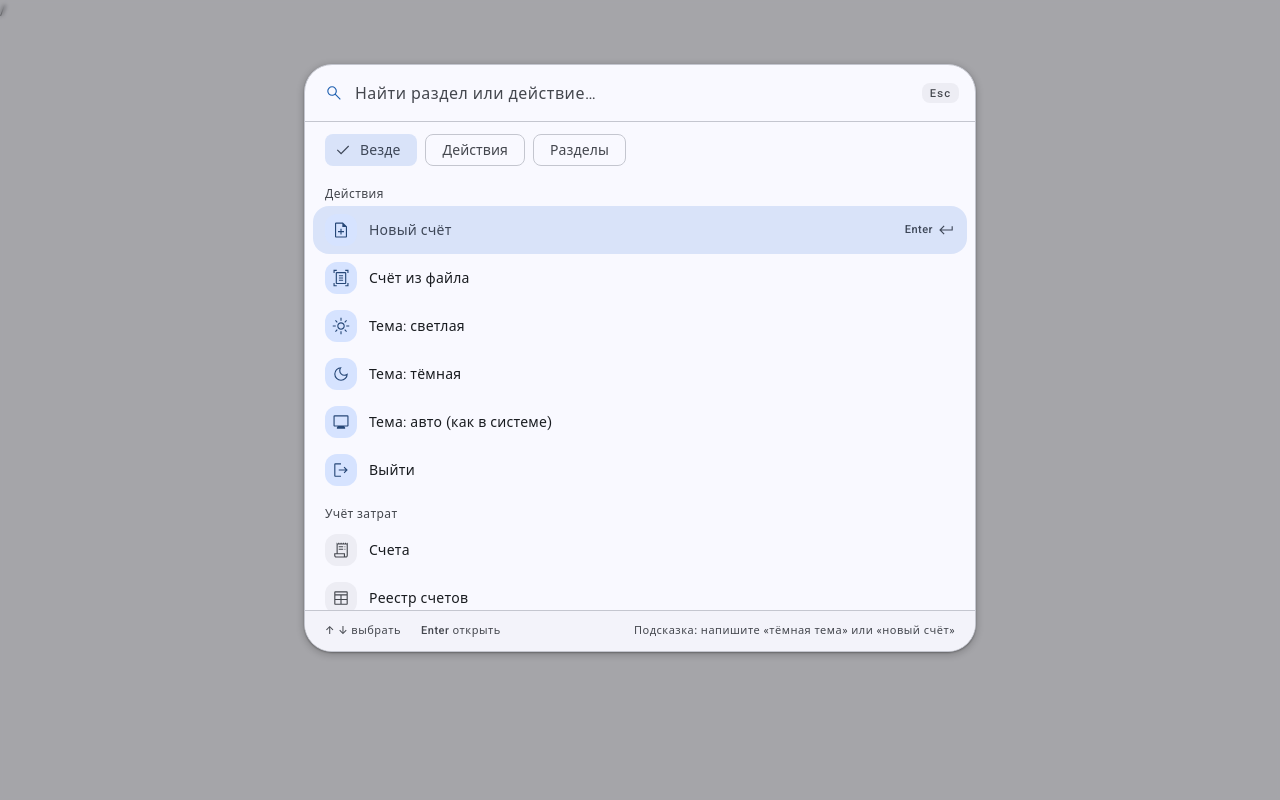
Test: командная палитра › действие ведёт на экран, который его исполнит
Type "новый счет" into the field named "Поиск и действия" at coordinates (632, 93), box [355,65,910,121]
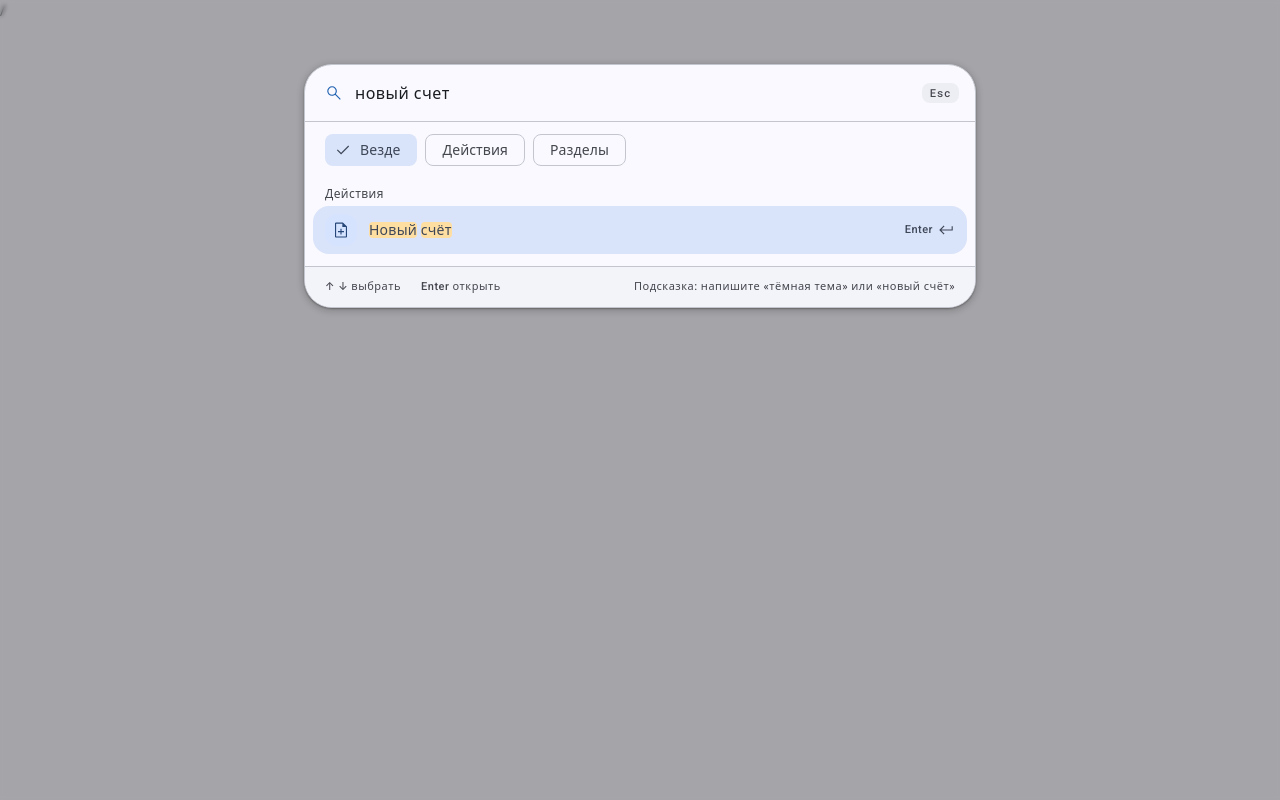
Press Enter in the field named "Поиск и действия", box [355,65,910,121]
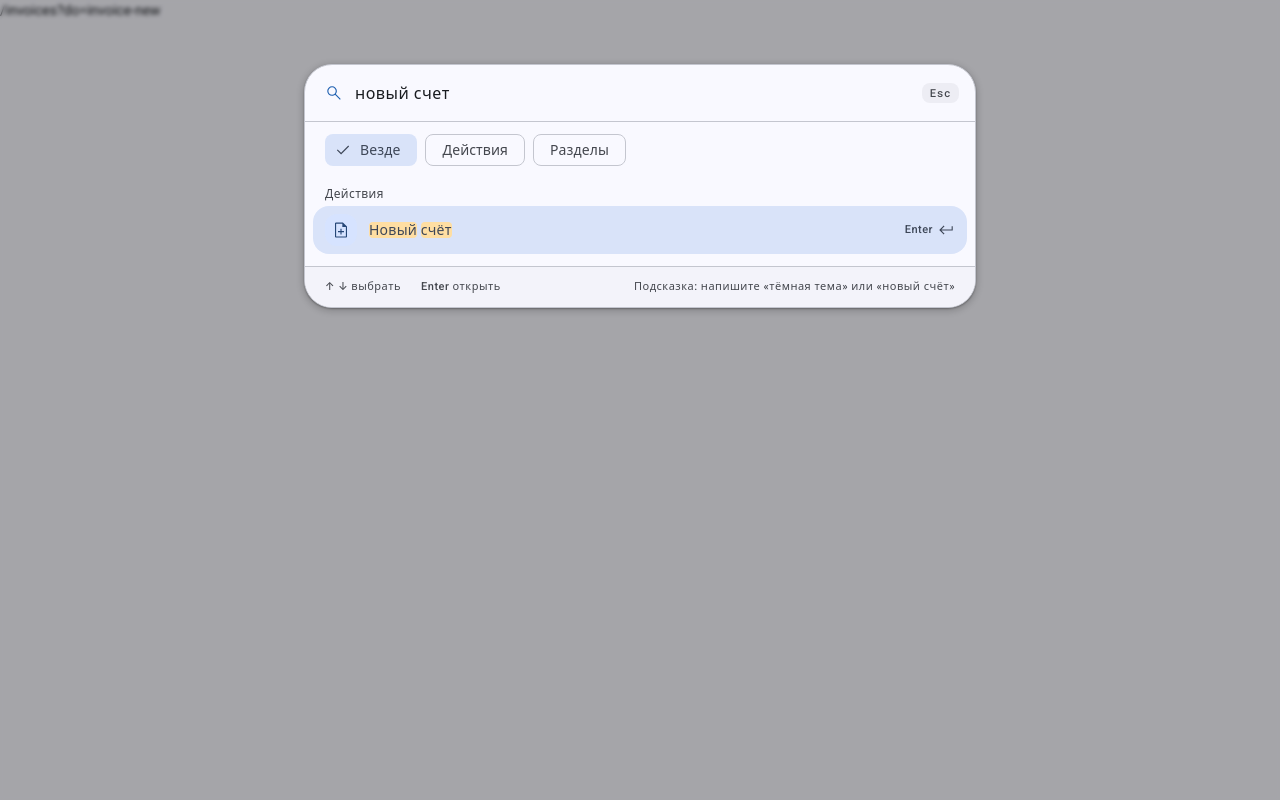
Check: the text named "адрес" reads "/invoices?do=invoice-new", box [0,2,161,18]
